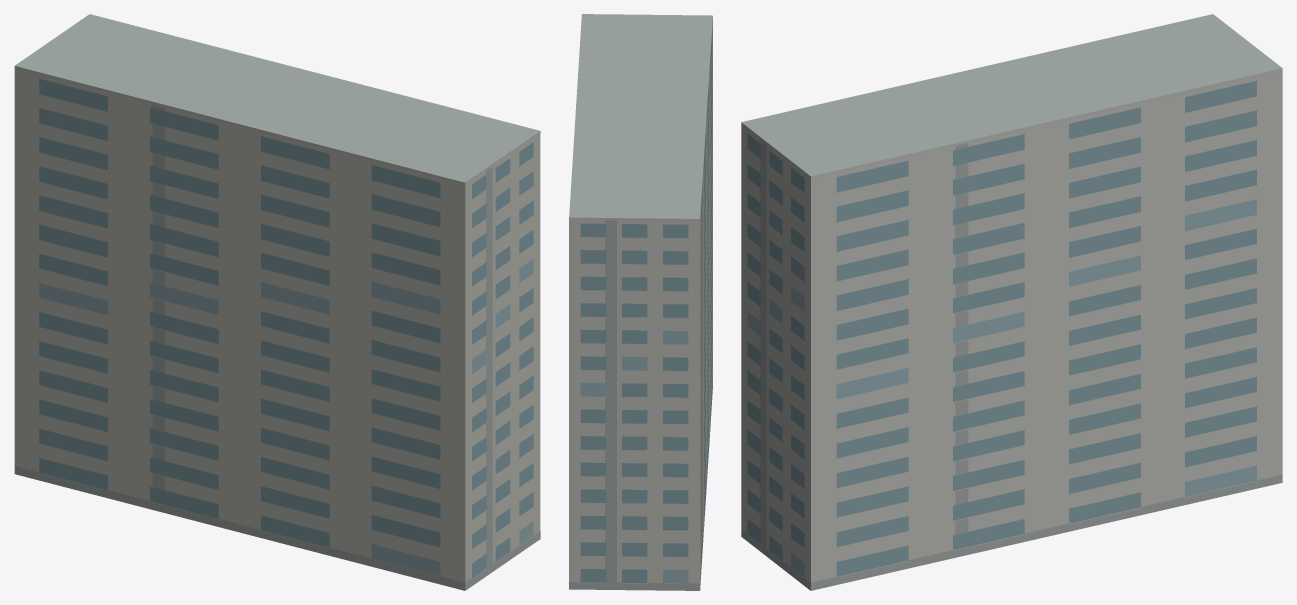
Rendered from residential-7df755e3-48cc-4150-924e-759c1eaebb01.glb.
3 renders of one model, left to right at view 1: azimuth 30°, elevation 25°; view 2: azimuth 150°, elevation 25°; view 3: azimuth 270°, elevation 25°, orthographic. The views are drawn at different scales.
Visible parts, largest first — view 1: residential-7df755e3-48cc-4150-924e-759c1eaebb01.tmp; view 2: residential-7df755e3-48cc-4150-924e-759c1eaebb01.tmp; view 3: residential-7df755e3-48cc-4150-924e-759c1eaebb01.tmp.
Boxes of the visible parts, x1,y1,x2,y2 form: residential-7df755e3-48cc-4150-924e-759c1eaebb01.tmp: (14, 14, 540, 590); residential-7df755e3-48cc-4150-924e-759c1eaebb01.tmp: (569, 14, 712, 590); residential-7df755e3-48cc-4150-924e-759c1eaebb01.tmp: (741, 14, 1282, 590).
Bounding box in the file's own units: 31.1 × 37 × 43.81.
